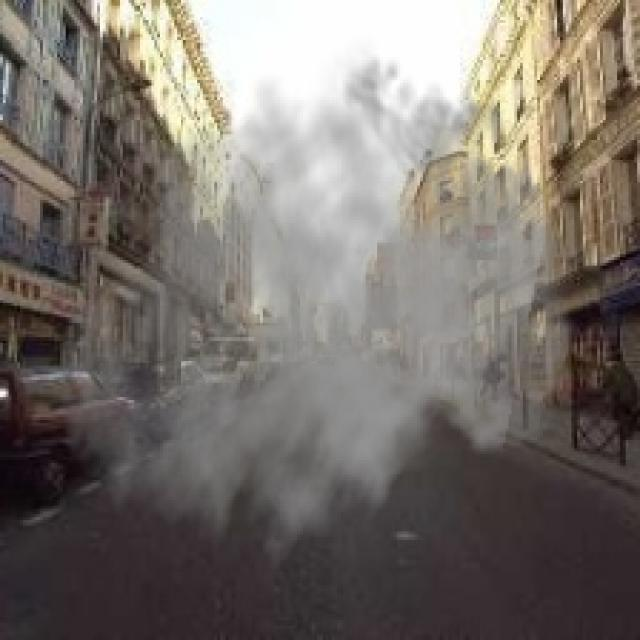smoke: (57, 34, 586, 592)
